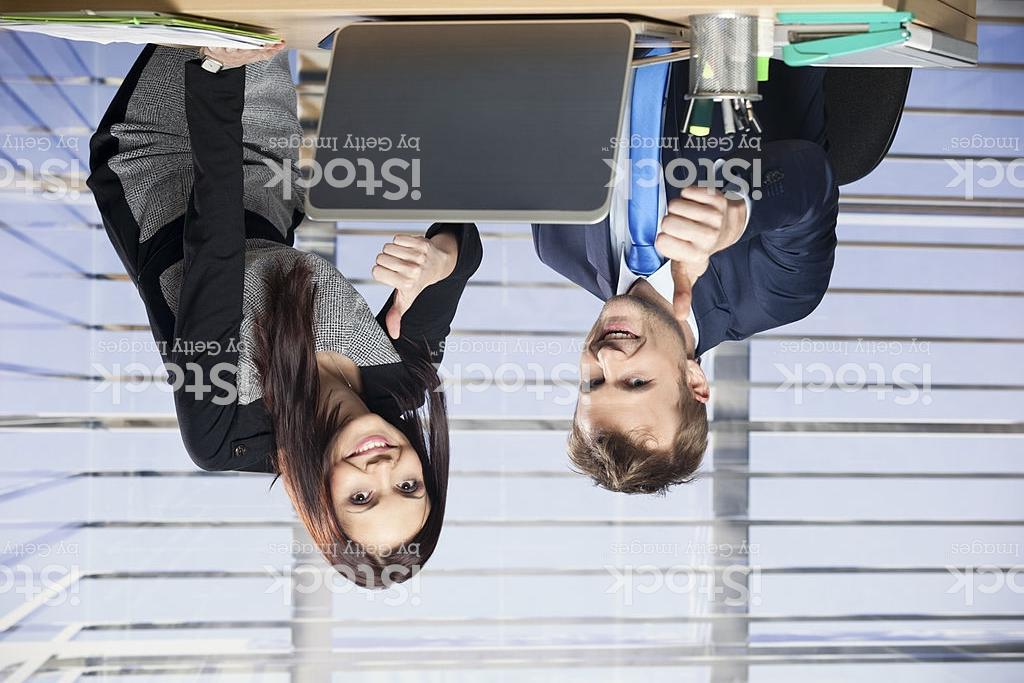thumbsdown: (653, 183, 729, 321), (371, 229, 436, 341)
